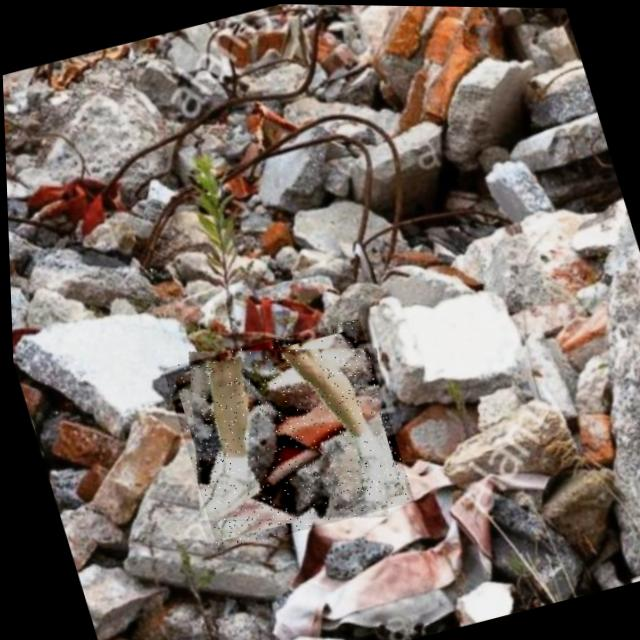Person in Rubble: (158, 314, 412, 553)
